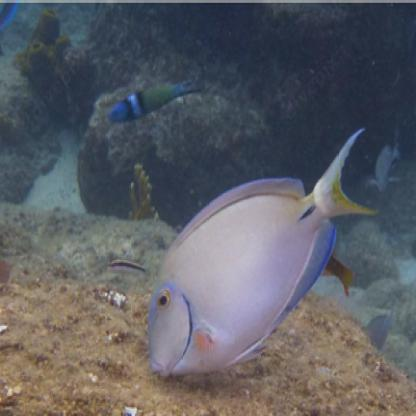surgeon: (148, 126, 380, 382)
